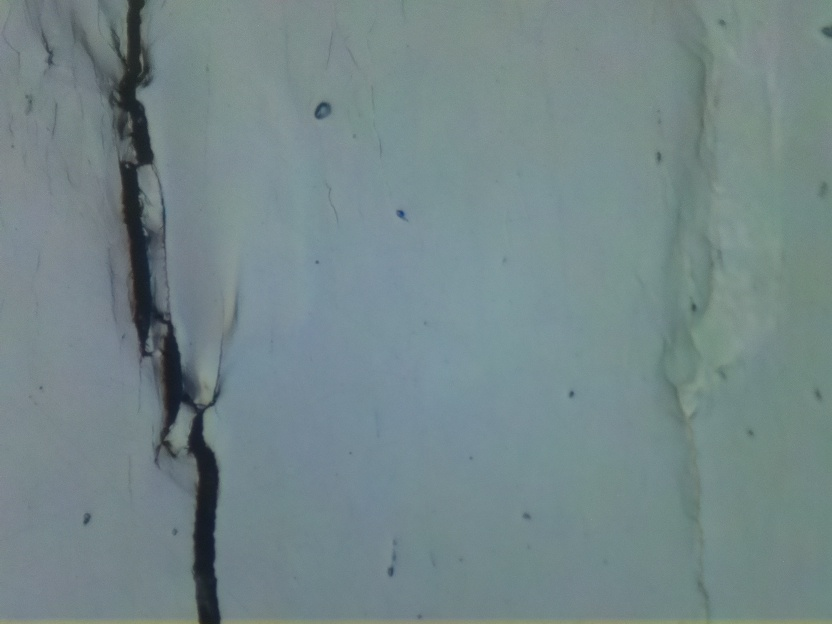crack: (112, 0, 228, 621)
